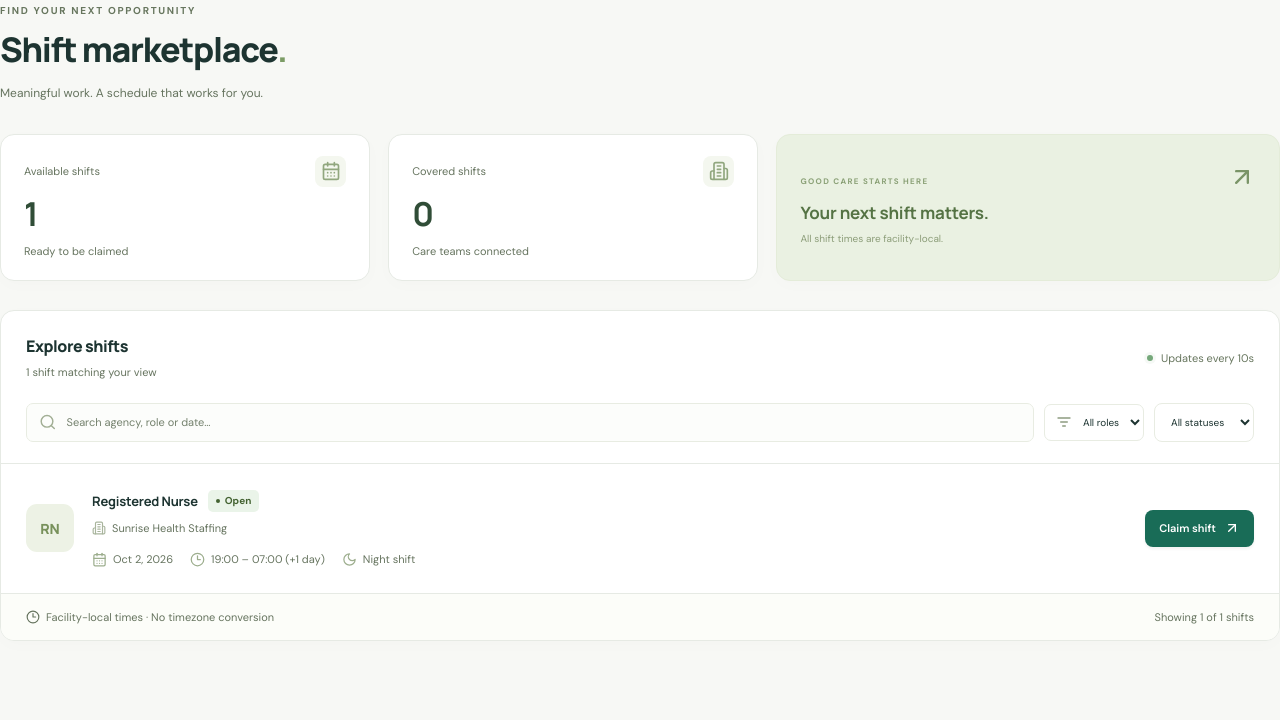
Test case: frontend compatibility and user feedback › filters marketplace results and explains empty views
The width and height of the screenshot is (1280, 720).
Expected: the element with test id "shift-list-item" is shown, [26,490,1254,567]
Select "LPN" in the dropdown named "Filter by role" at (1108, 422), box [1072,405,1143,440]
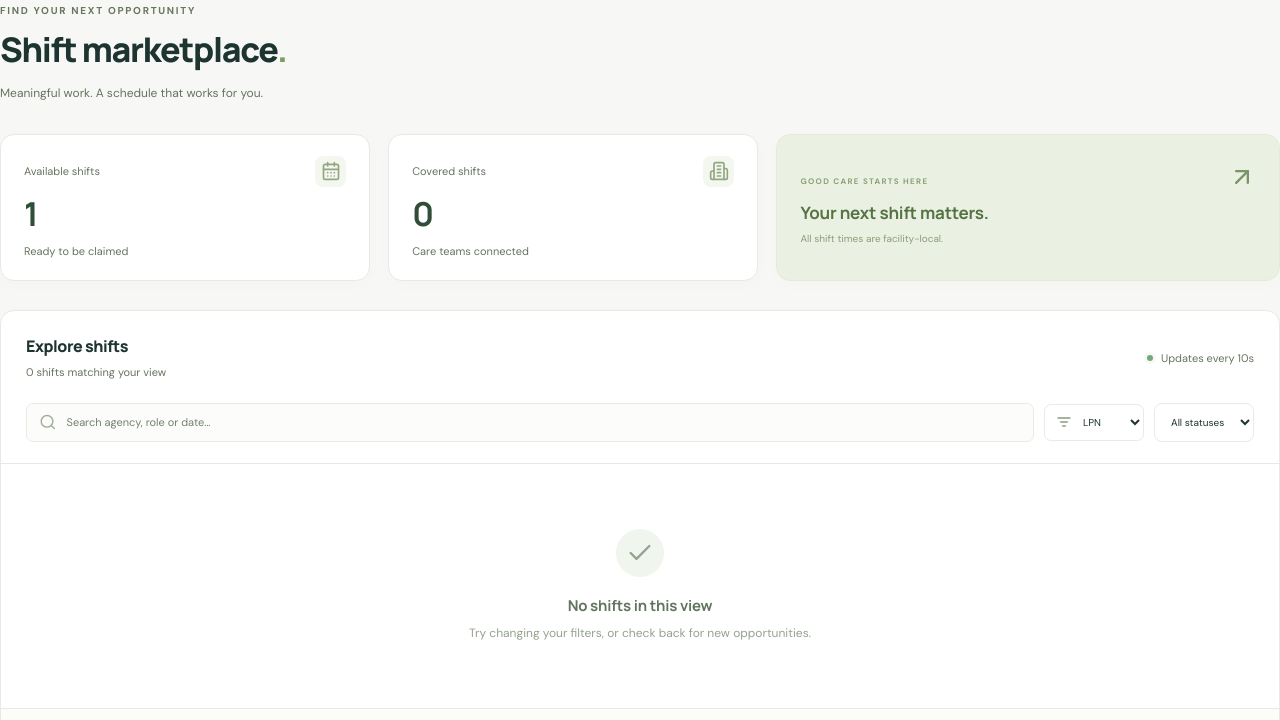
Result: the element with test id "shift-list-item" is gone
Result: the heading "No shifts in this view" is shown at [568,595,712,616]
